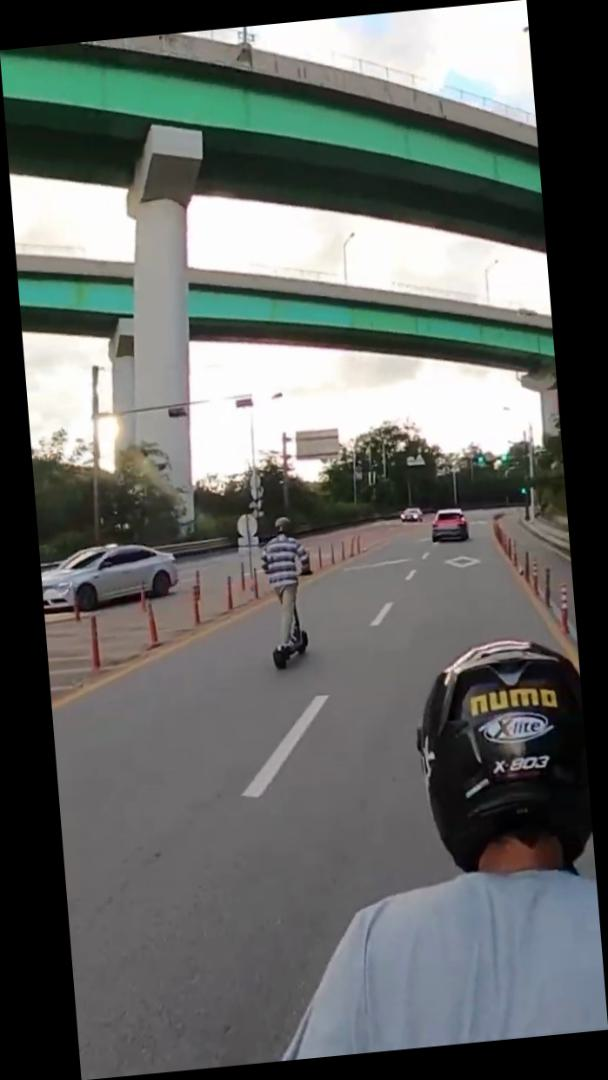helmet: (253, 509, 324, 672)
